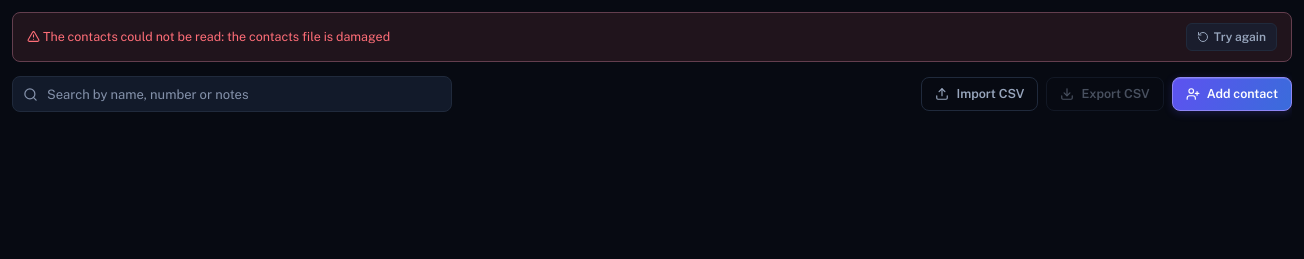
it: the list › says the contacts could not be read, with a way to ask again
This screenshot has width=1304, height=259.
Expected: the message with class "load-error" shows "The contacts could not be read: the contacts file is damaged", top-left (43, 29), bottom-right (390, 44)
Click the button "Try again".
click(1231, 37)  # box top-left (1186, 23), bottom-right (1277, 51)
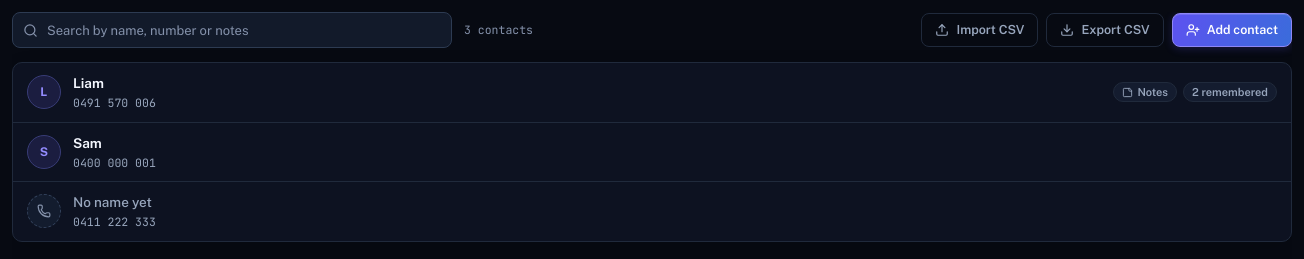
Expected: the message with class "load-error" is gone
